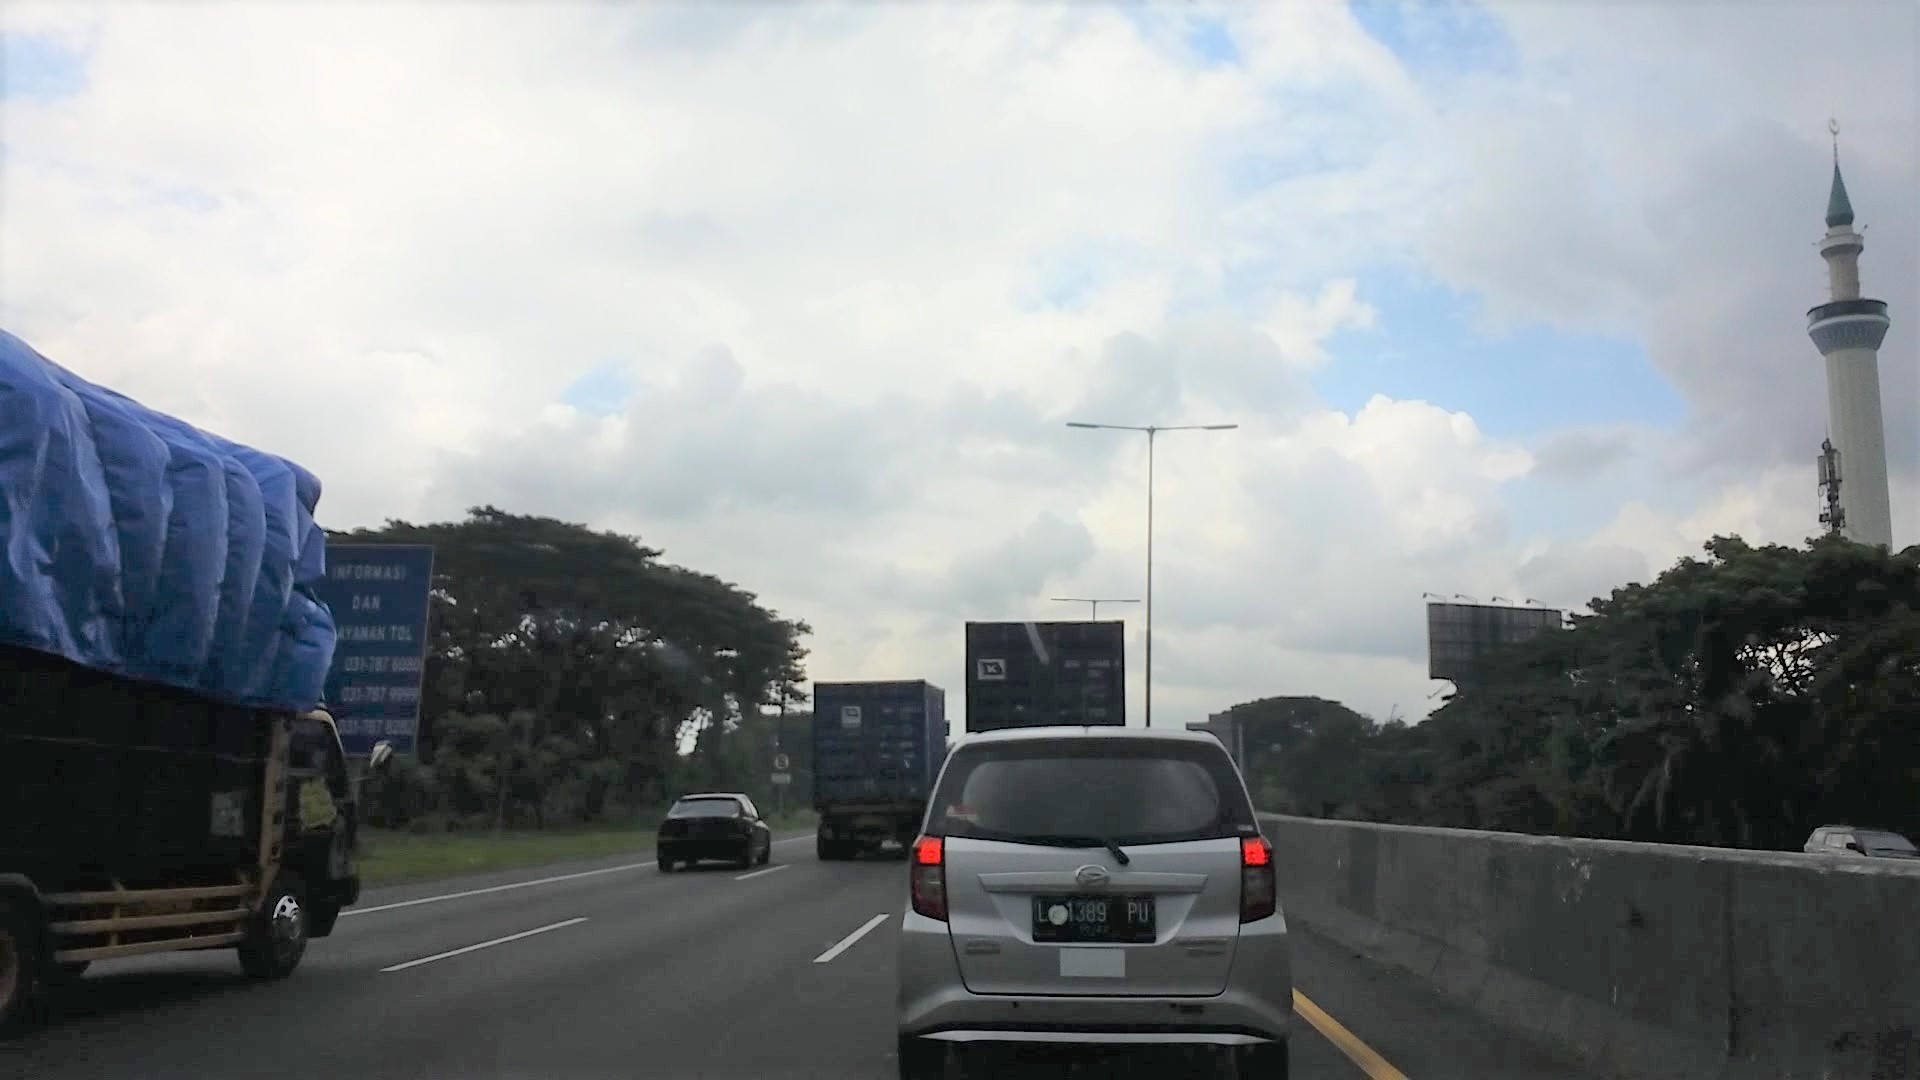plate_positive: (1033, 894, 1156, 944)
